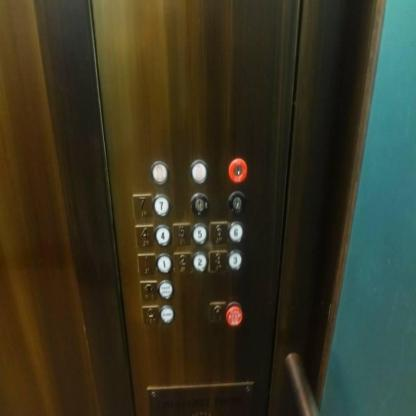1: (152, 251, 174, 277), (135, 251, 156, 276)
2: (171, 251, 192, 276), (189, 249, 210, 274)
3: (208, 248, 229, 274), (226, 248, 244, 273)
4: (134, 224, 155, 249), (152, 223, 172, 248)
5: (171, 222, 190, 247), (190, 222, 209, 246)
6: (208, 220, 228, 246), (226, 220, 245, 243)
7: (132, 192, 152, 219), (151, 193, 170, 217)
alarm: (140, 304, 159, 325)
blur: (156, 278, 174, 300), (158, 304, 176, 326)
keyhole: (226, 156, 247, 184), (188, 192, 209, 219), (226, 189, 247, 216)
light: (148, 159, 170, 186), (187, 158, 208, 185)
open: (139, 280, 158, 302)
stop: (208, 300, 226, 325)
text_stop: (224, 300, 243, 327)
